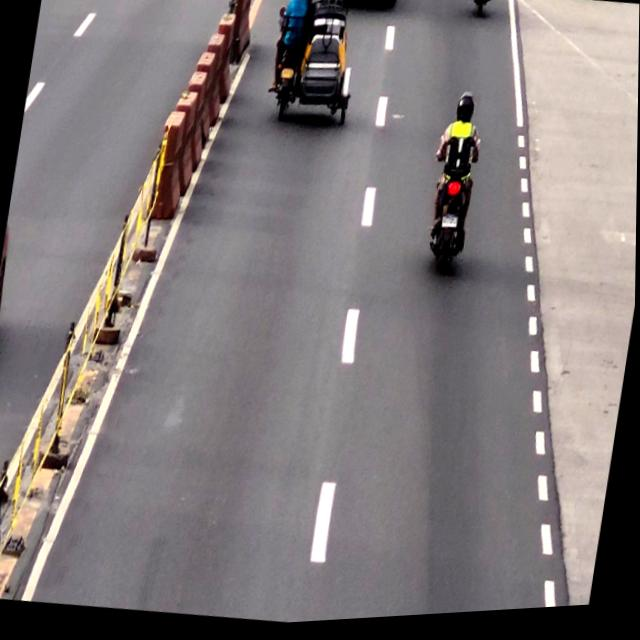License-Plate: (440, 216, 462, 237)
Motorcycle: (425, 98, 488, 279)
Tricycle: (260, 0, 367, 131)
